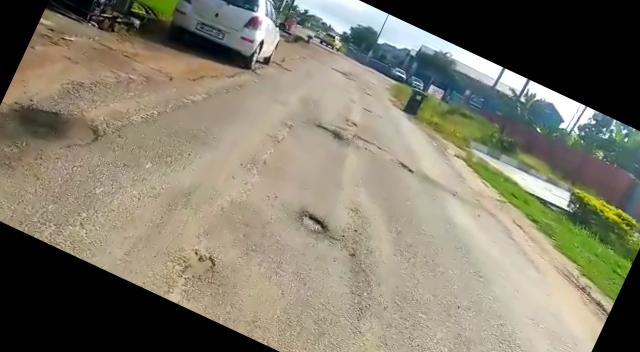pothole: (348, 132, 420, 175), (292, 208, 338, 242), (311, 118, 349, 144)
